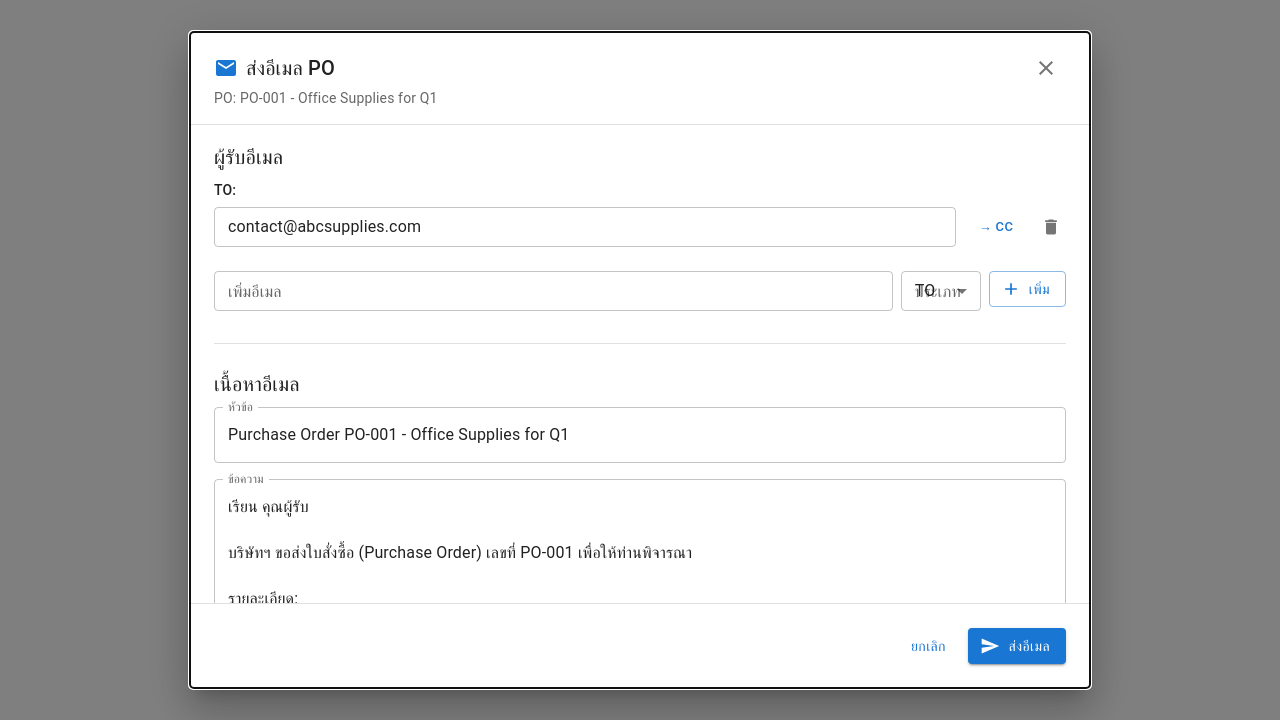
POEmailDialog › prevents duplicate emails
// Try to add the same email as vendor
Type "contact@abcsupplies.com" into the field labelled "เพิ่มอีเมล". click: (553, 291)
box: x1=214 y1=271 x2=893 y2=311
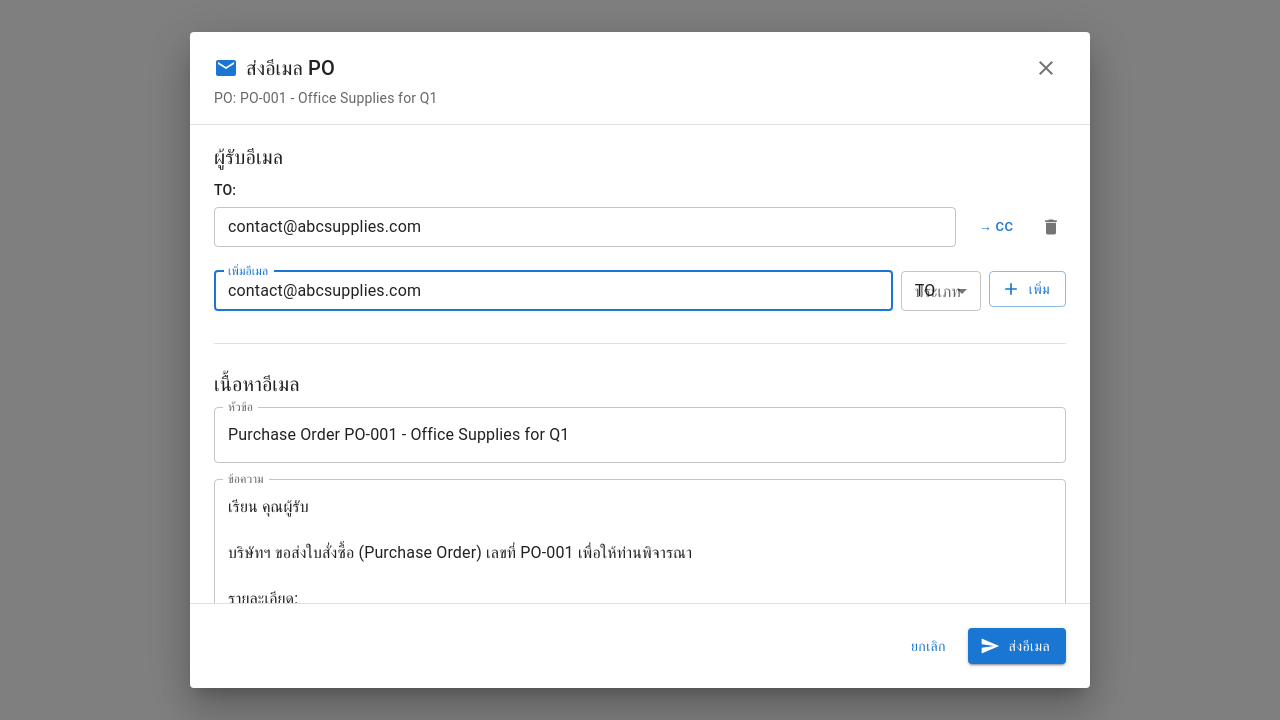
Click the button "เพิ่ม". click: (1027, 289)
box: x1=989 y1=271 x2=1066 y2=307
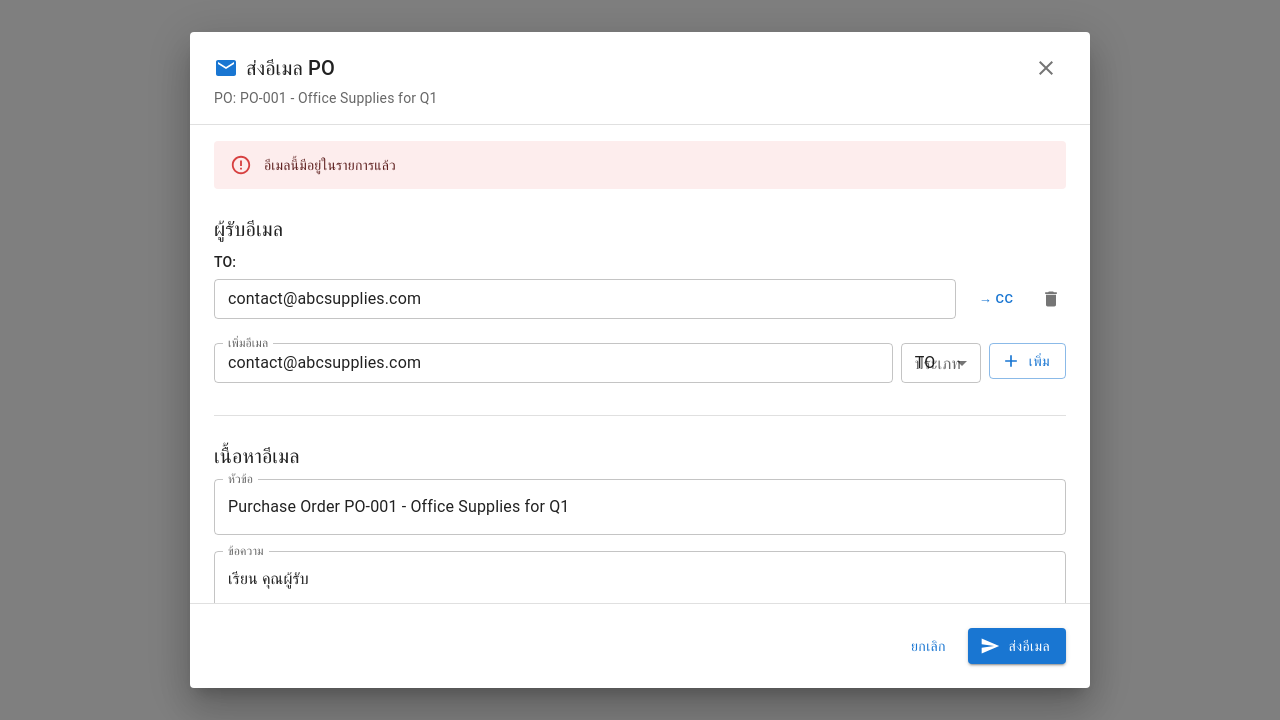
Now the text "อีเมลนี้มีอยู่ในรายการแล้ว" is shown, box x1=264 y1=157 x2=396 y2=173
